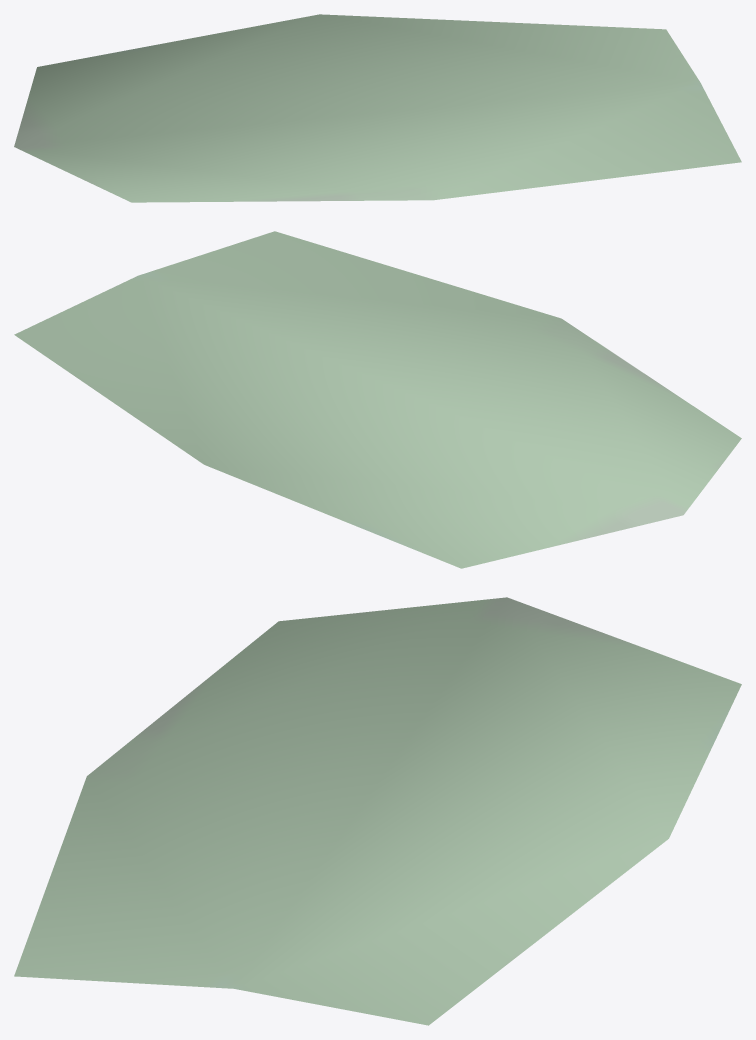
File: TROLLHOLE02_HOLECAP160.fbx
The picture shows the model from 3 angles, top to bottom: view 1: azimuth 30°, elevation 25°; view 2: azimuth 150°, elevation 25°; view 3: azimuth 270°, elevation 25°; orthographic projection. The views are drawn at different scales.
Parts seen in each view (by area): view 1: TROLLHOLE02_HOLECAP160; view 2: TROLLHOLE02_HOLECAP160; view 3: TROLLHOLE02_HOLECAP160.
Part boxes in pixels (left/top/right/bottom): TROLLHOLE02_HOLECAP160: left=14, top=14, right=741, bottom=202; TROLLHOLE02_HOLECAP160: left=14, top=231, right=741, bottom=568; TROLLHOLE02_HOLECAP160: left=14, top=597, right=741, bottom=1025.
Bounding box in the file's own units: 35345 × 797 × 26490.
Materials: 1 (1 with a texture image).
